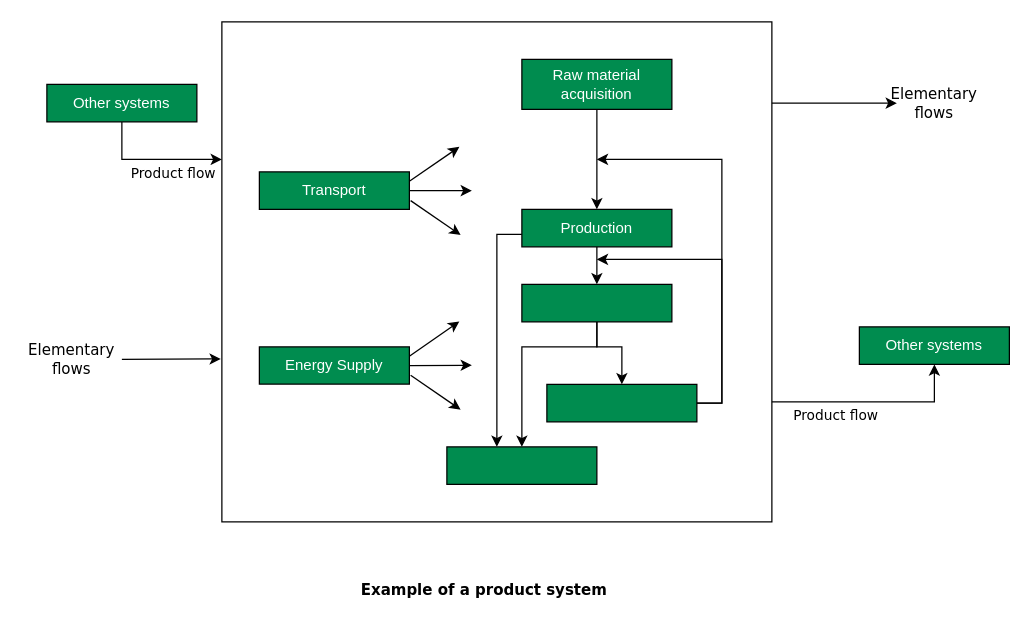
Image size: 1031x631. Some labels were removed from this diagram. The box of each missing label's shape, as (x1, y1, x2, y2) in pixels:
Recycling/Reuse: (546, 383, 697, 422)
Use: (521, 283, 672, 322)
Waste treatment: (446, 446, 597, 484)
